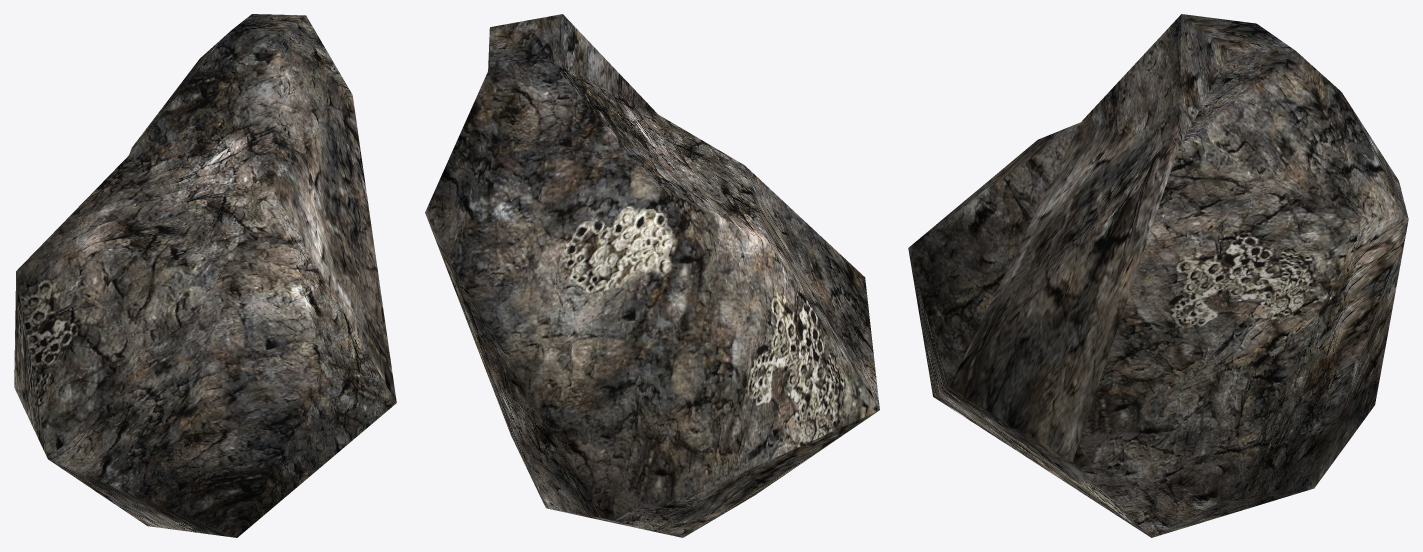
File: pir_m_prp_dvj_rock_j.fbx
3 renders of one model, left to right at view 1: azimuth 30°, elevation 25°; view 2: azimuth 150°, elevation 25°; view 3: azimuth 270°, elevation 25°, orthographic. The views are drawn at different scales.
Parts seen in each view (by area): view 1: lod_high; view 2: lod_high; view 3: lod_high.
Part boxes in pixels (bbox=[...]): lod_high: bbox=[14, 14, 396, 537]; lod_high: bbox=[425, 14, 879, 537]; lod_high: bbox=[908, 14, 1408, 537].
Size of the model in its own units: 702 by 889 by 756.
Materials: 1 (1 with a texture image).
